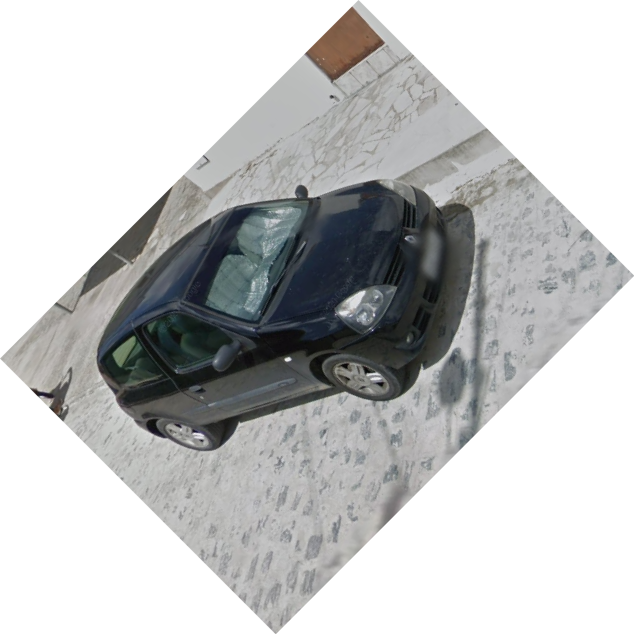car: (93, 175, 451, 454)
